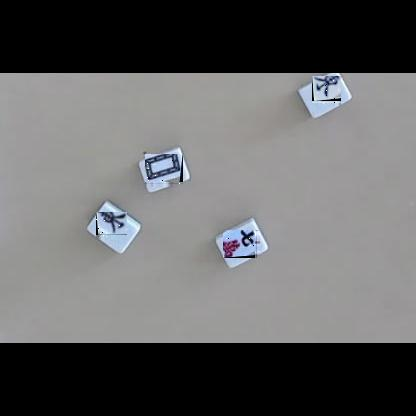1z: (312, 77, 341, 106), (96, 213, 127, 240)
5z: (145, 155, 183, 187)
7m: (224, 230, 260, 258)
